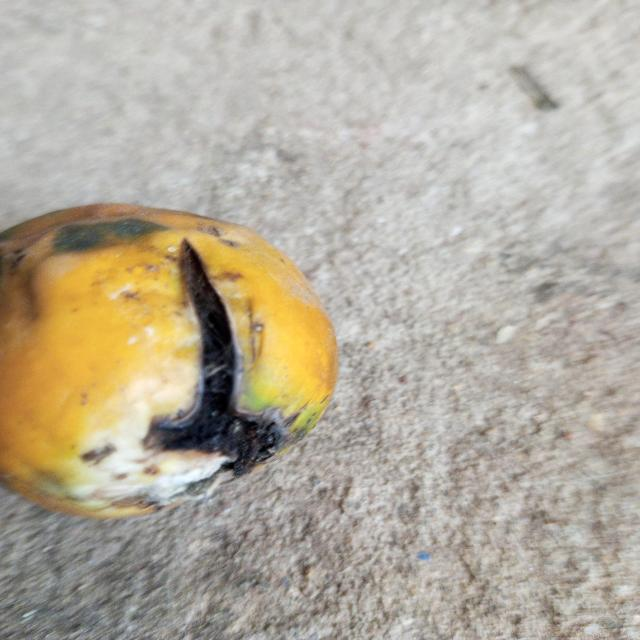damaged: (0, 204, 337, 517)
